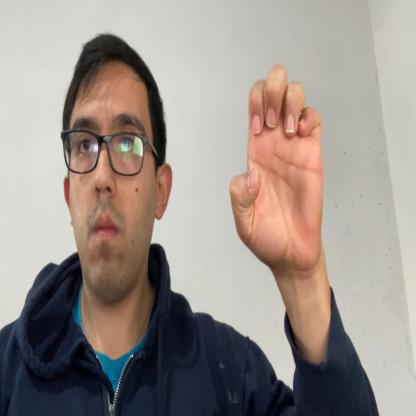E: (230, 64, 325, 270)
